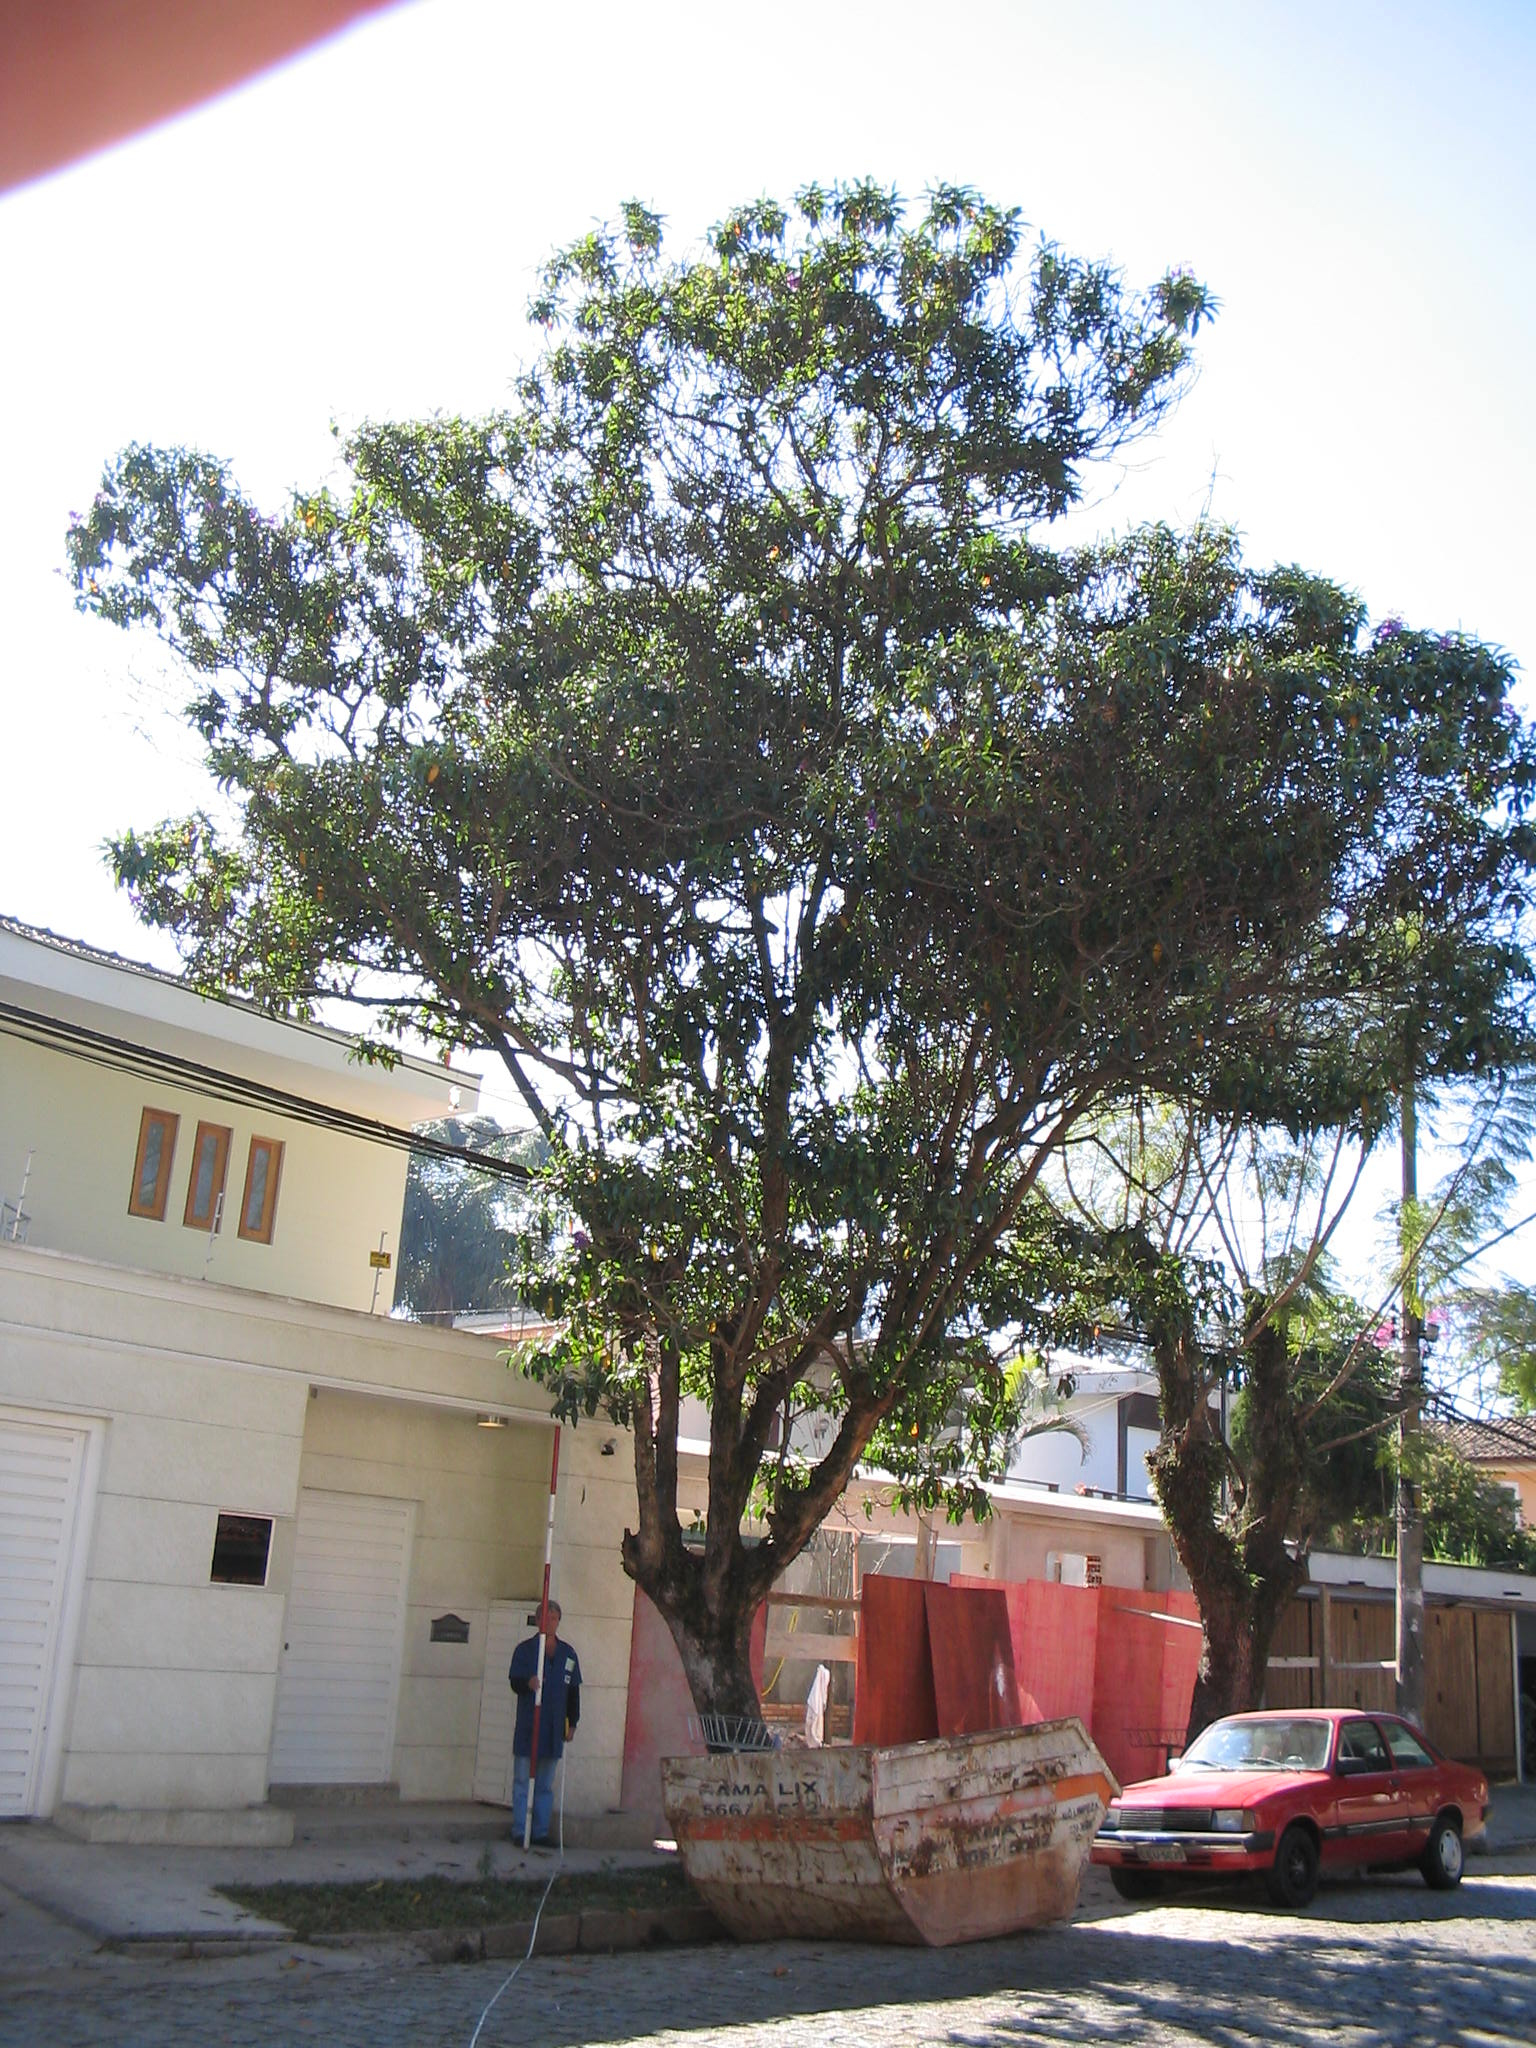crown: (61, 176, 1512, 1447)
stem: (1141, 1576, 1315, 1861), (628, 1579, 794, 1861)
stick: (511, 1421, 570, 1853)
tree: (53, 174, 1523, 1867), (1033, 1071, 1523, 1863)
